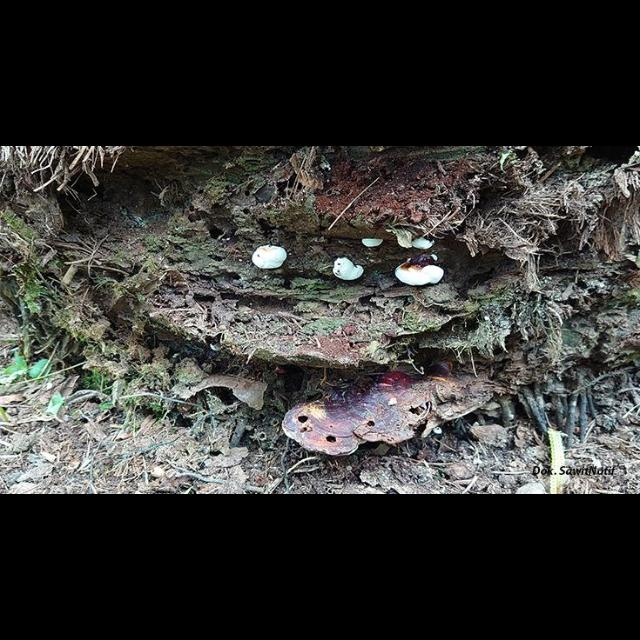ganoderma: (284, 361, 499, 459)
primordium: (395, 263, 446, 288), (333, 259, 367, 282), (254, 246, 287, 269), (411, 238, 438, 251), (363, 239, 385, 250)
